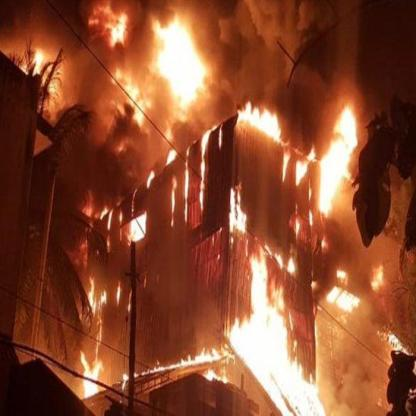fire: (224, 244, 328, 416), (143, 7, 213, 121), (314, 91, 364, 223), (118, 343, 235, 391), (234, 92, 283, 146), (88, 4, 133, 54), (111, 67, 142, 125), (78, 346, 106, 402), (227, 184, 250, 238), (294, 142, 316, 191), (85, 273, 108, 316), (22, 42, 51, 74), (200, 125, 209, 214), (369, 261, 385, 294), (129, 213, 147, 240), (183, 163, 190, 226), (279, 148, 291, 184), (104, 206, 116, 234), (144, 169, 158, 191), (171, 175, 176, 230), (113, 278, 122, 308), (292, 216, 302, 242), (166, 148, 178, 166), (99, 202, 109, 222)
